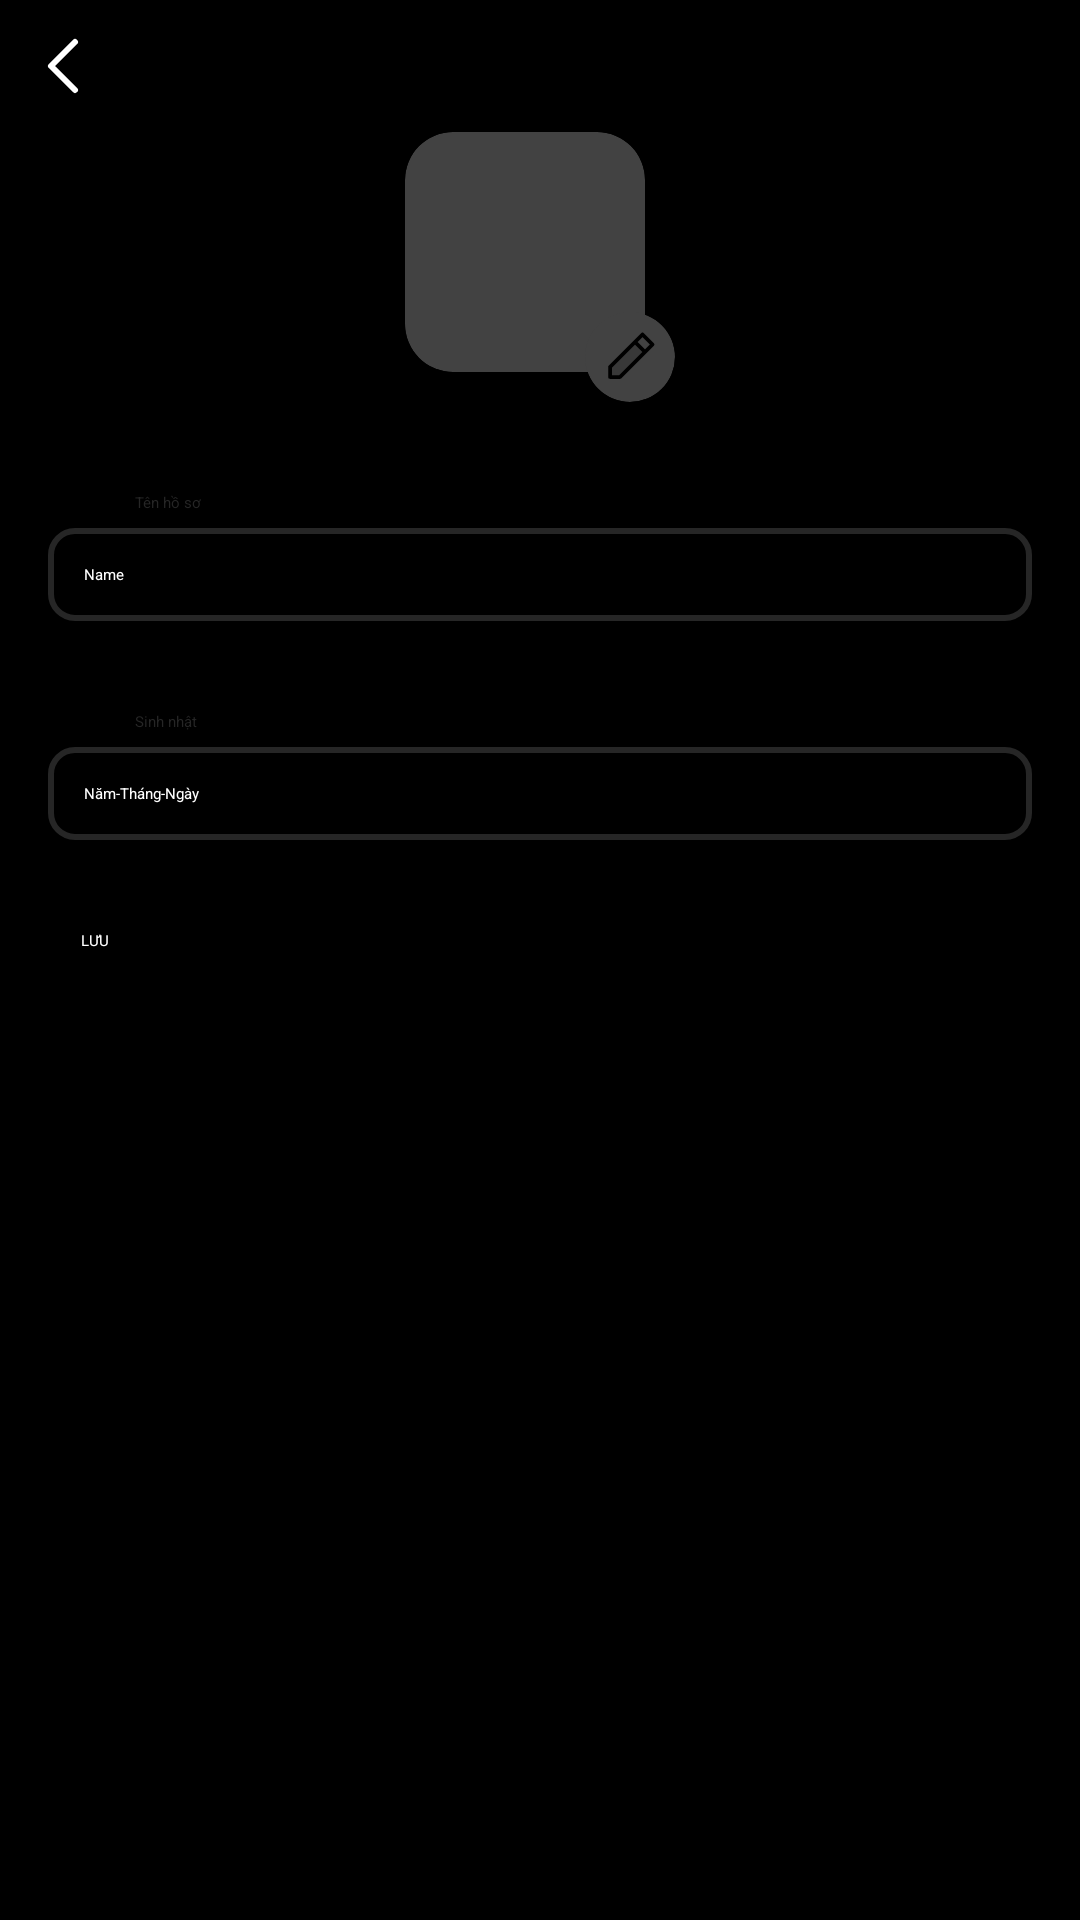

Icons on this 1080w x 1920h Android screen, each with the point to tap as point (x, y):
arrow back: point (63, 65)
edit: point (630, 357)
